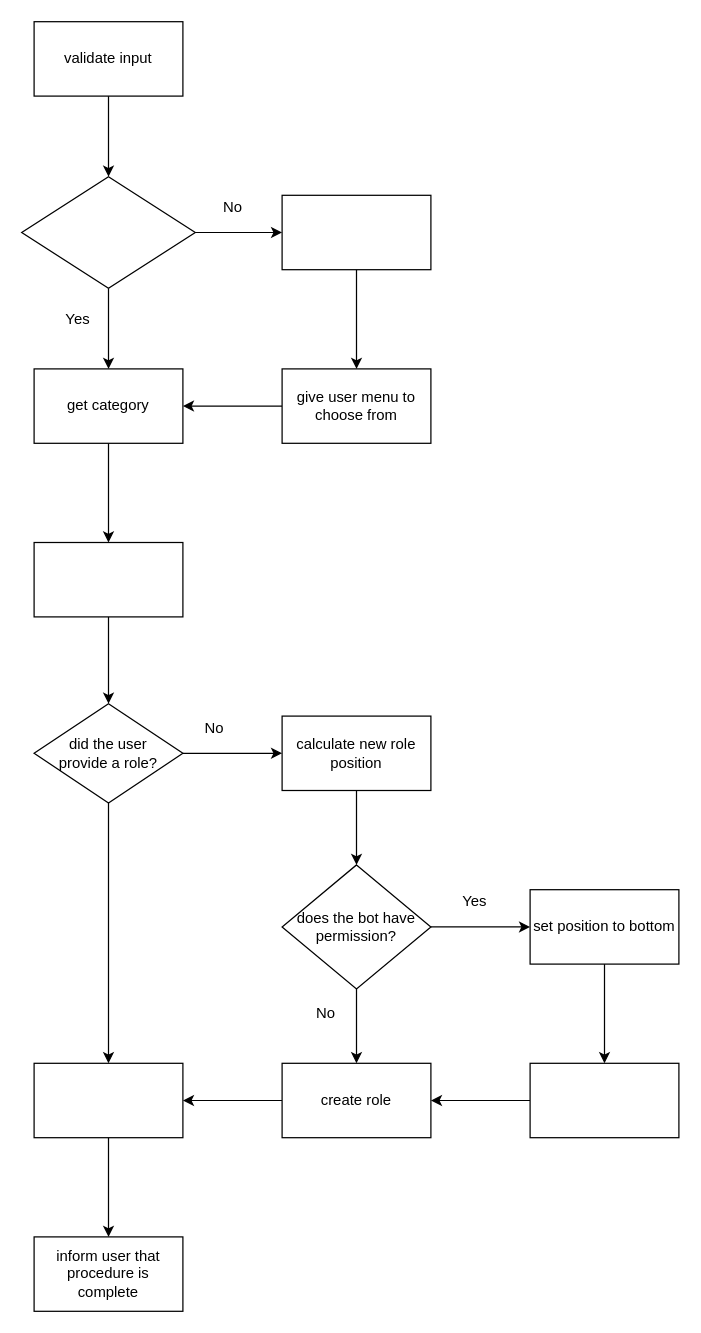
Some shapes in this 701 by 1333 pixel diagram are drawn without their labels. Each missing label, with the centre of its shape:
did the user provide a category?: point (107, 231)
get categories of provided game: point (356, 232)
inform user of error: point (604, 1100)
make user select leaderboard variables: point (108, 579)
save leaderboard with role: point (108, 1100)
